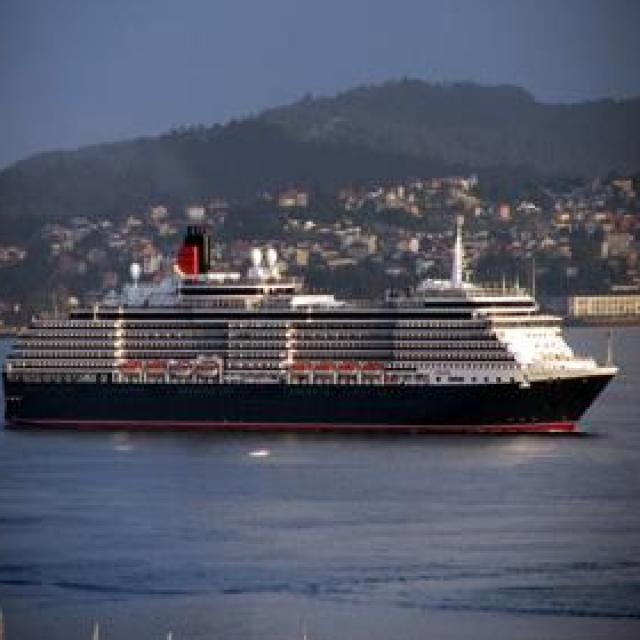passenger ship: (0, 240, 610, 436)
